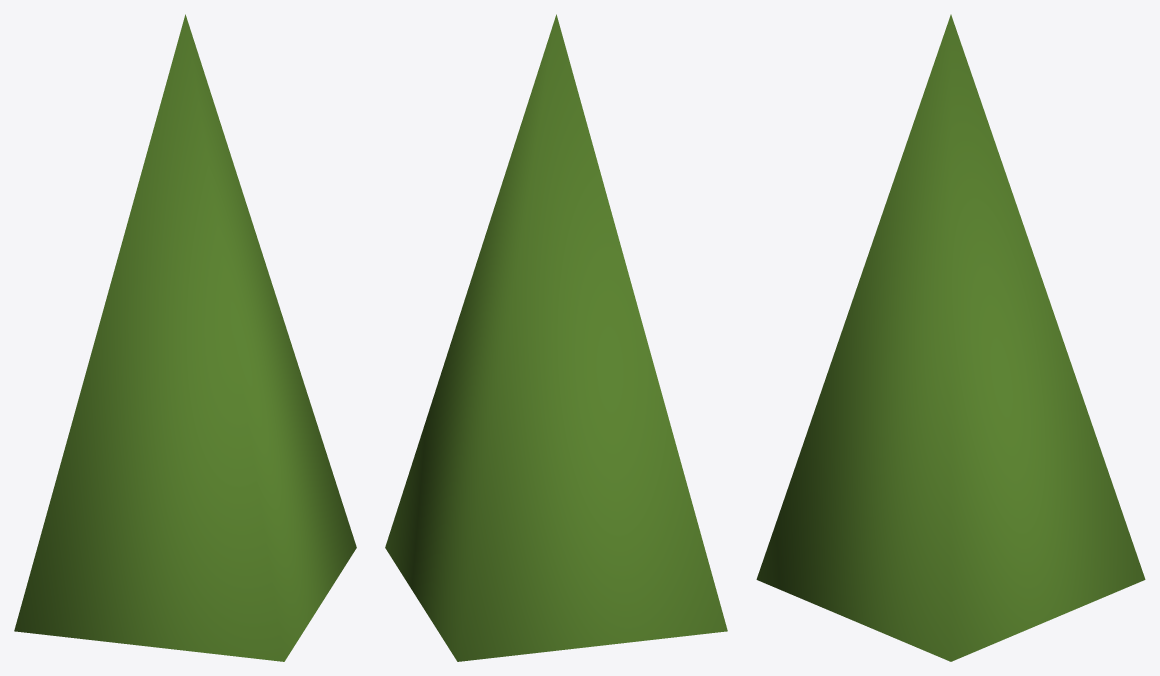
The model's file is plant_growing.fbx.
3 views of the same model, side by side, from view 1: azimuth 30°, elevation 25°; view 2: azimuth 150°, elevation 25°; view 3: azimuth 270°, elevation 25° (orthographic).
Parts seen in each view (by area): view 1: Cone; view 2: Cone; view 3: Cone.
Part boxes in pixels (x1,y1,x2,y2): Cone: (14,14,356,661); Cone: (385,14,727,661); Cone: (756,14,1145,661).
Bounding box in the file's own units: 4.78 × 7.67 × 4.78.
